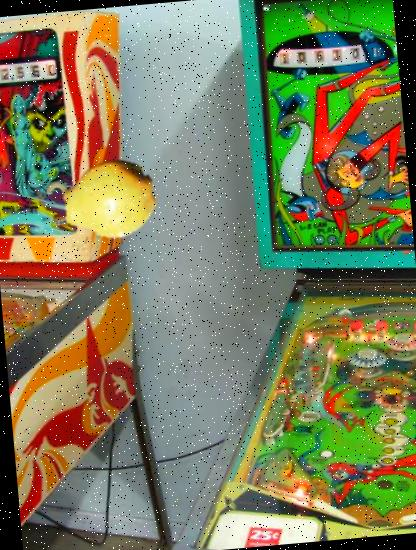Quince: (58, 150, 161, 252)
